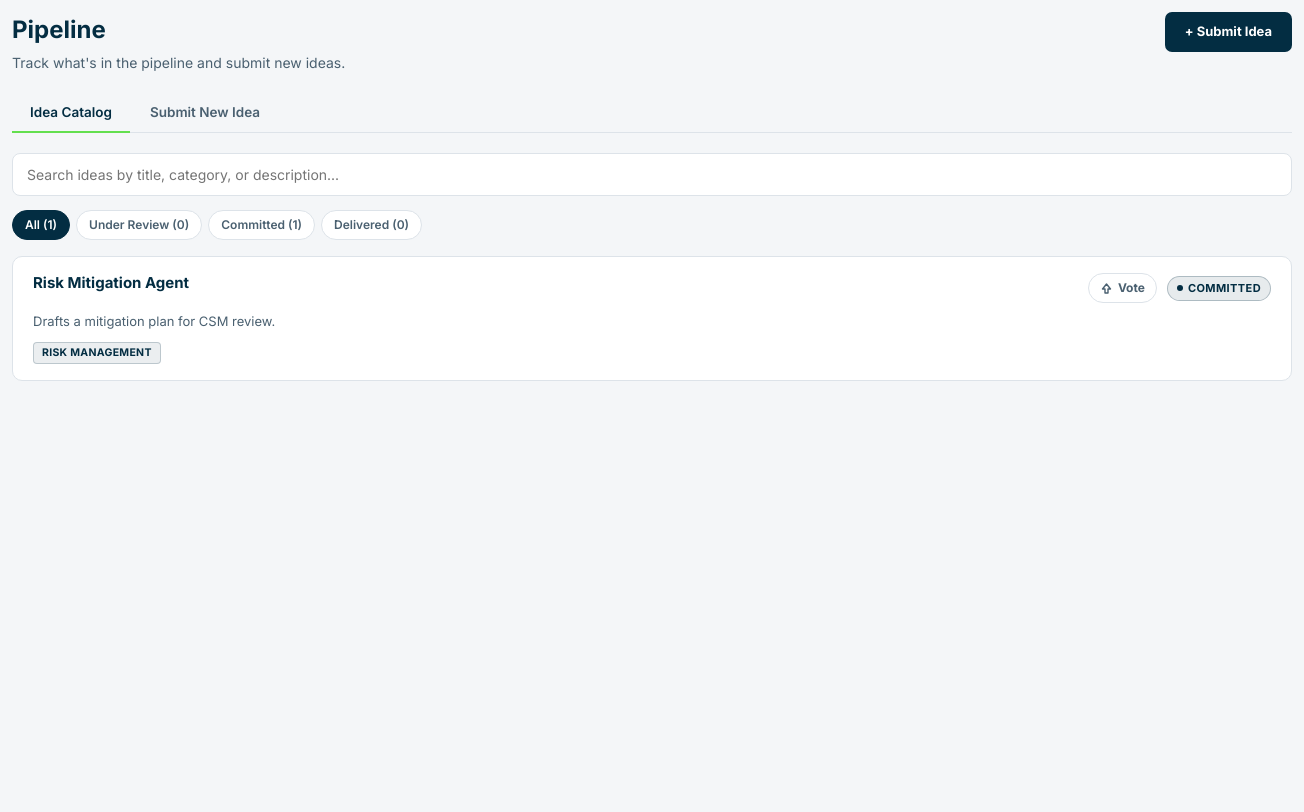
Scenario: PageIdeaPortal › shows no-results state when Fuse search finds no match in discovery
Click the button "Submit New Idea" at (205, 113), box [132,93,278,133]
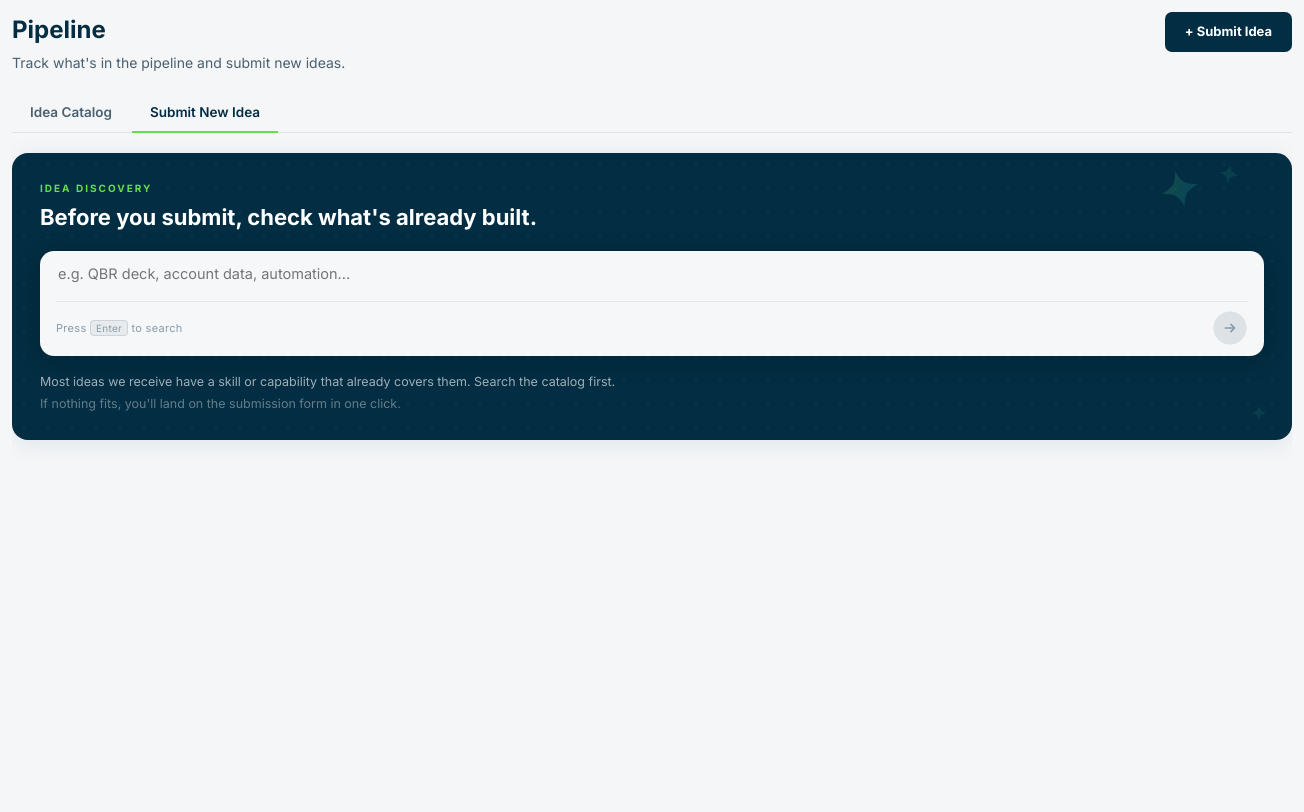
Type "zzzznonexistent" into the text box with placeholder "e.g. QBR deck, account data, automation..." at (652, 274), box [56,261,1248,287]
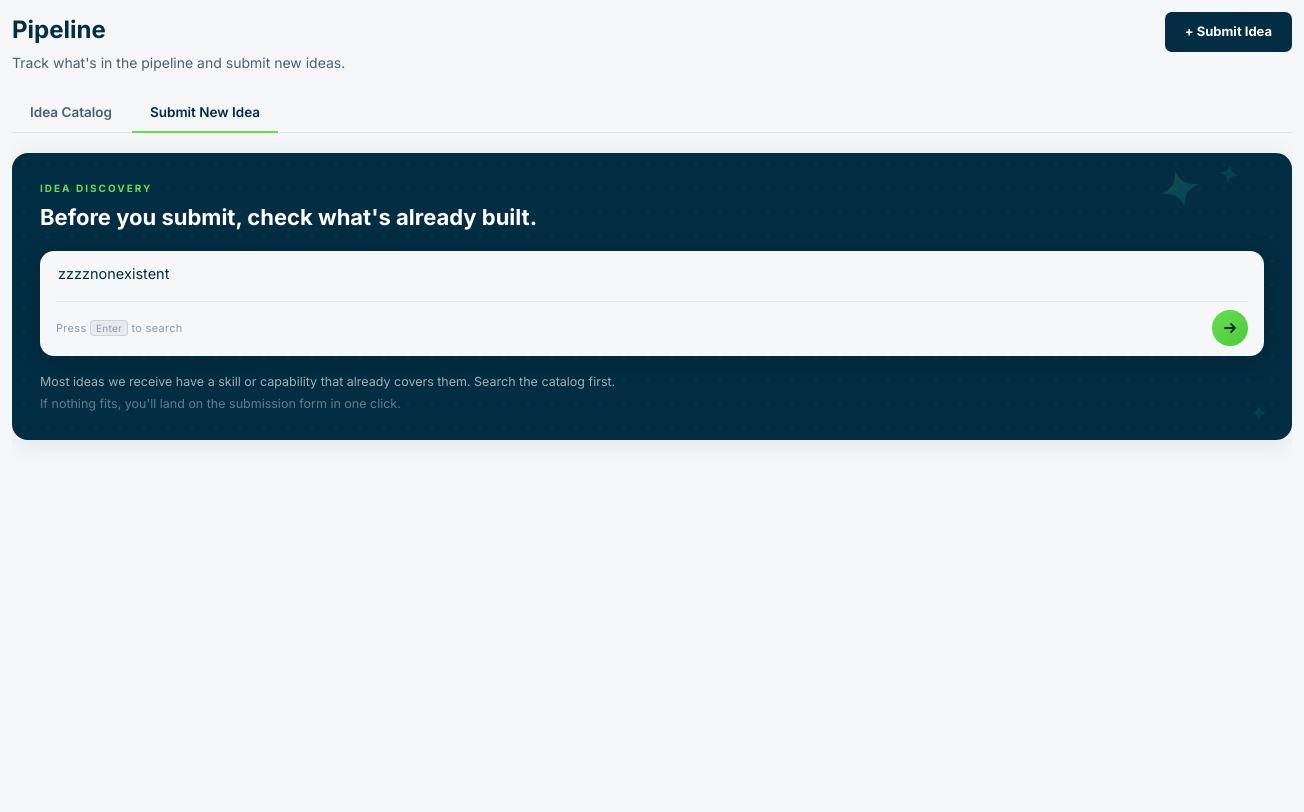
Click the button named "Check Catalog →" at (1230, 328), box [1212,310,1248,346]
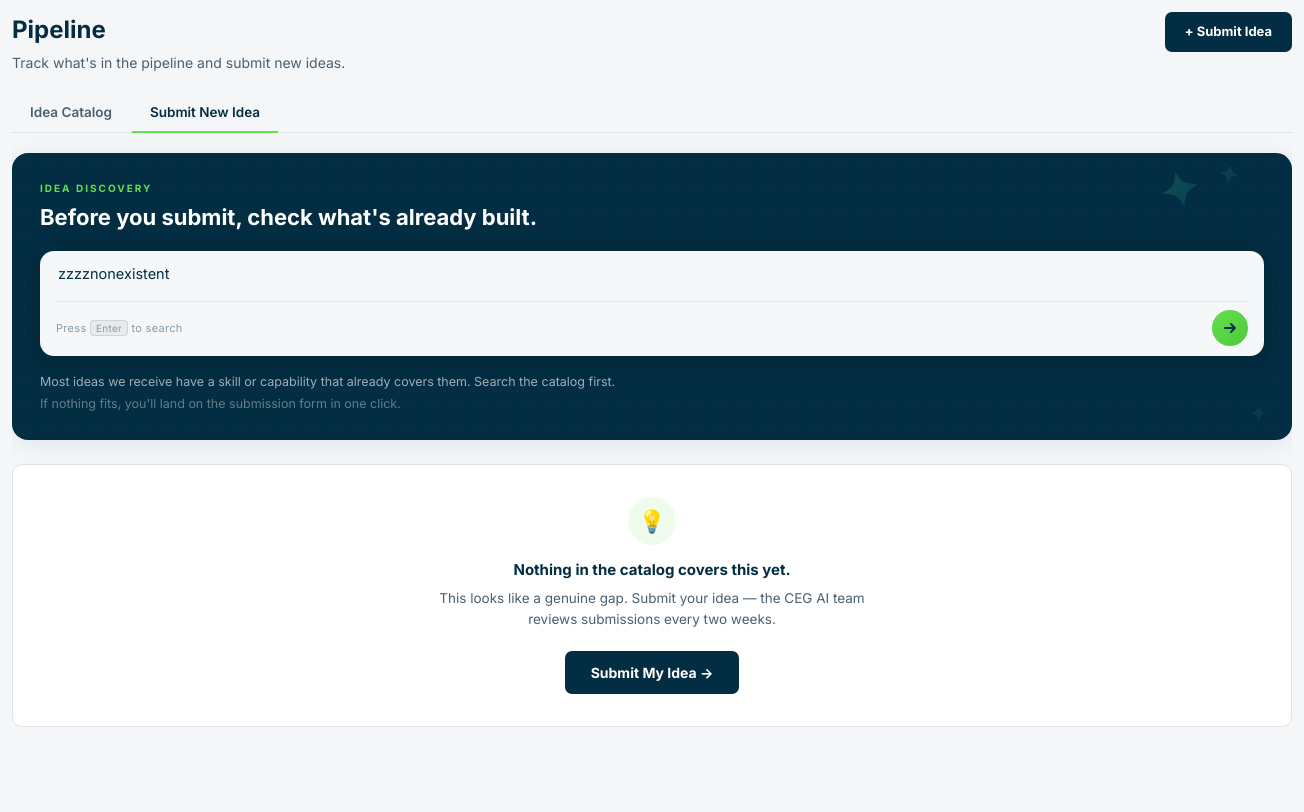
Check: the text "Nothing in the catalog covers this yet." is shown, box [514,560,791,579]
